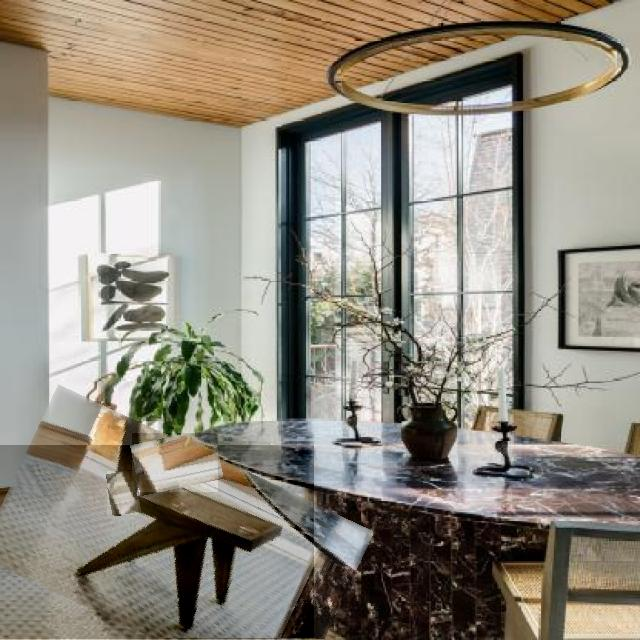floor: (0, 445, 314, 639), (132, 434, 218, 492), (107, 471, 138, 515)
